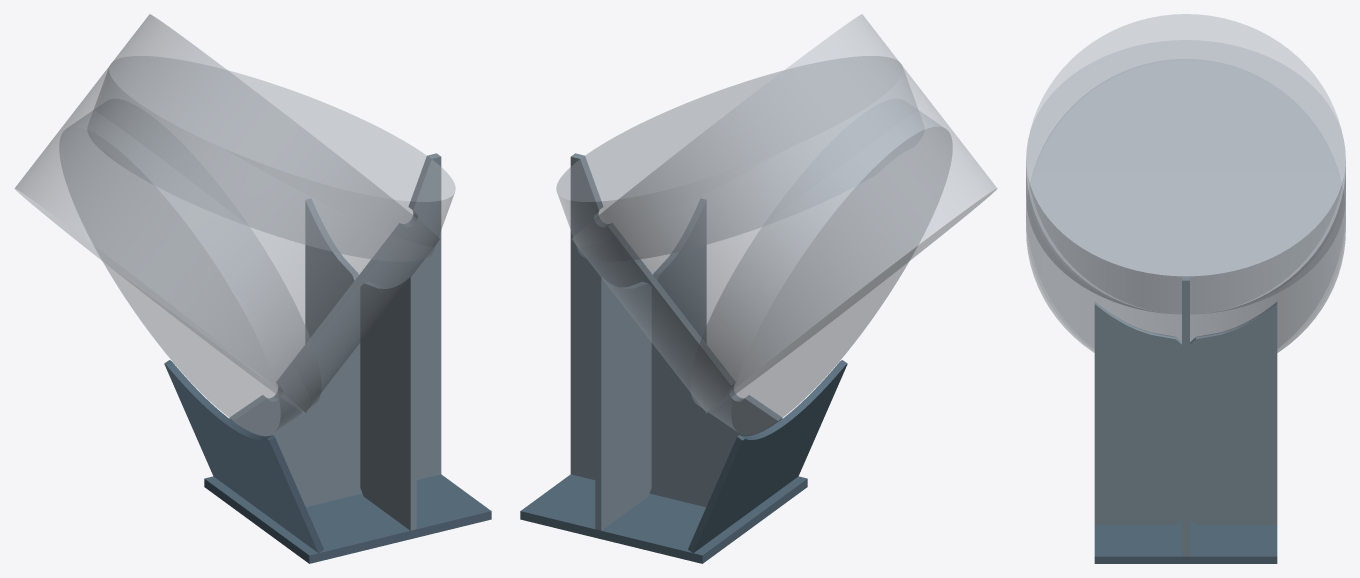
The model's file is TS-631.000-11-opora-dn630-R630.glb.
3 views of the same model, side by side, from view 1: azimuth 30°, elevation 25°; view 2: azimuth 150°, elevation 25°; view 3: azimuth 270°, elevation 25° (orthographic). The views are drawn at different scales.
Parts seen in each view (by area): view 1: truba_1, truba_0, truba_2, kosynka_1, rebro_3, osnovanie_0, sedlo_4, rebro_2; view 2: truba_1, truba_0, truba_2, kosynka_1, rebro_2, osnovanie_0, sedlo_4, rebro_3; view 3: truba_1, truba_0, rebro_2, rebro_3, truba_2, osnovanie_0, kosynka_1.
Part boxes in pixels (x1,y1,x2,y2): truba_1: (14,14,439,413); truba_0: (94,56,455,261); truba_2: (59,110,321,434); kosynka_1: (229,153,441,507); rebro_3: (360,275,416,530); osnovanie_0: (204,474,491,563); sedlo_4: (164,360,323,552); rebro_2: (305,199,358,342); truba_1: (572,14,997,413); truba_0: (556,56,917,261); truba_2: (690,110,952,434); kosynka_1: (570,153,782,507); rebro_2: (595,275,651,530); osnovanie_0: (520,474,807,563); sedlo_4: (688,360,847,552); rebro_3: (653,199,706,342); truba_1: (1026,14,1345,352); truba_0: (1026,40,1345,314); rebro_2: (1190,302,1277,524); rebro_3: (1094,302,1181,524); truba_2: (1026,207,1345,350); osnovanie_0: (1094,519,1277,563); kosynka_1: (1182,276,1189,556).
Size of the model in its own units: 774 by 958 by 630.
